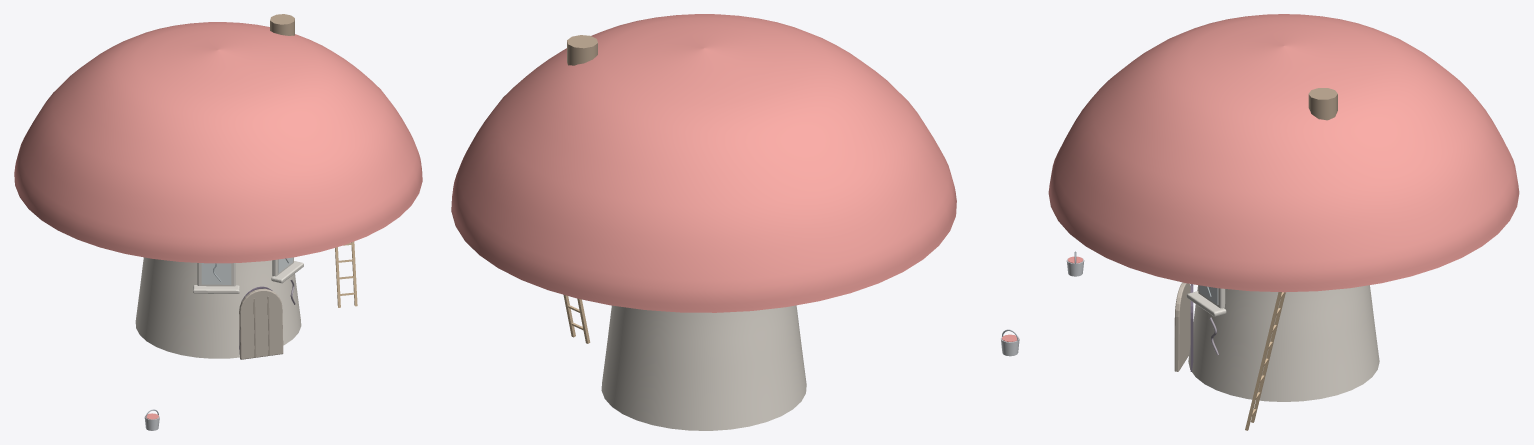
File: building_forest_L03.glb
3 renders of one model, left to right at view 1: azimuth 30°, elevation 25°; view 2: azimuth 150°, elevation 25°; view 3: azimuth 270°, elevation 25°, orthographic. The views are drawn at different scales.
Parts seen in each view (by area): view 1: Body, forest_L3; view 2: Body, forest_L3; view 3: Body, forest_L3.
Boxes of the visible parts, box(x1,y1,x2,y2) form: Body: box(14, 14, 422, 359); forest_L3: box(144, 241, 357, 430); Body: box(451, 14, 956, 430); forest_L3: box(563, 294, 1019, 356); Body: box(1048, 14, 1519, 401); forest_L3: box(1066, 251, 1285, 430).
Bounding box in the file's own units: 19.2 × 14.24 × 19.2.
